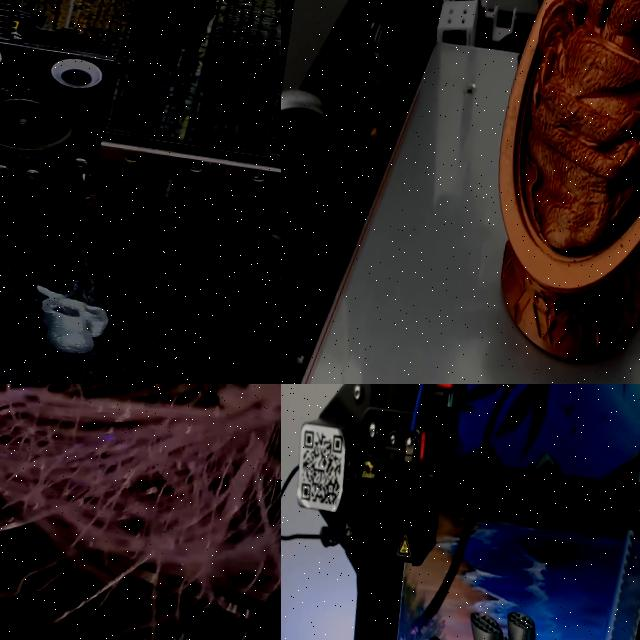spaghetti: (0, 384, 281, 640)
